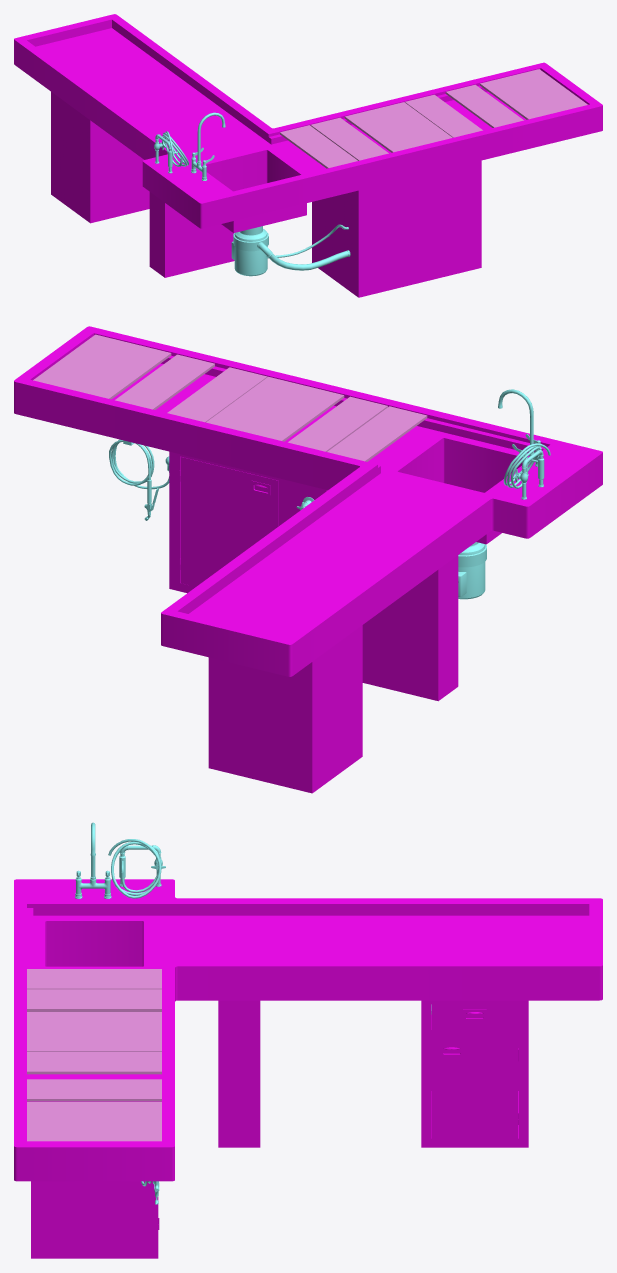
Rendered from SM_L_Shaped_Autopsy_Table.FBX.
The picture shows the model from 3 angles, top to bottom: view 1: azimuth 30°, elevation 25°; view 2: azimuth 150°, elevation 25°; view 3: azimuth 270°, elevation 25°; orthographic projection. The views are drawn at different scales.
Visible parts, largest first — view 1: L_Shaped_Autopsy_Table_body, Stationary_Pedestal_Autopsy_Table_plates_1 (×4), Stationary_Pedestal_Autopsy_Table_plates_2 (×2); view 2: L_Shaped_Autopsy_Table_body, Stationary_Pedestal_Autopsy_Table_plates_1 (×4), Stationary_Pedestal_Autopsy_Table_plates_2 (×2), L_Shaped_Autopsy_Table_door_1, L_Shaped_Autopsy_Table_hose; view 3: L_Shaped_Autopsy_Table_body, Stationary_Pedestal_Autopsy_Table_plates_1 (×4), Stationary_Pedestal_Autopsy_Table_plates_2 (×2), L_Shaped_Autopsy_Table_door_2, L_Shaped_Autopsy_Table_drawer, L_Shaped_Autopsy_Table_hose.
Part boxes in pixels (x1=…): L_Shaped_Autopsy_Table_body: x1=14, y1=14, x2=602, y2=297; Stationary_Pedestal_Autopsy_Table_plates_1 (×4): x1=280, y1=84, x2=523, y2=168; Stationary_Pedestal_Autopsy_Table_plates_2 (×2): x1=344, y1=69, x2=587, y2=152; L_Shaped_Autopsy_Table_body: x1=14, y1=326, x2=602, y2=793; Stationary_Pedestal_Autopsy_Table_plates_1 (×4): x1=115, y1=354, x2=427, y2=461; Stationary_Pedestal_Autopsy_Table_plates_2 (×2): x1=33, y1=334, x2=344, y2=441; L_Shaped_Autopsy_Table_door_1: x1=179, y1=457, x2=278, y2=586; L_Shaped_Autopsy_Table_hose: x1=503, y1=443, x2=550, y2=488; L_Shaped_Autopsy_Table_body: x1=14, y1=845, x2=602, y2=1258; Stationary_Pedestal_Autopsy_Table_plates_1 (×4): x1=27, y1=969, x2=161, y2=1101; Stationary_Pedestal_Autopsy_Table_plates_2 (×2): x1=27, y1=1012, x2=161, y2=1141; L_Shaped_Autopsy_Table_door_2: x1=431, y1=1038, x2=518, y2=1138; L_Shaped_Autopsy_Table_drawer: x1=431, y1=1004, x2=518, y2=1029; L_Shaped_Autopsy_Table_hose: x1=108, y1=839, x2=161, y2=898.
Size of the model in its own units: 323 by 152 by 300.
